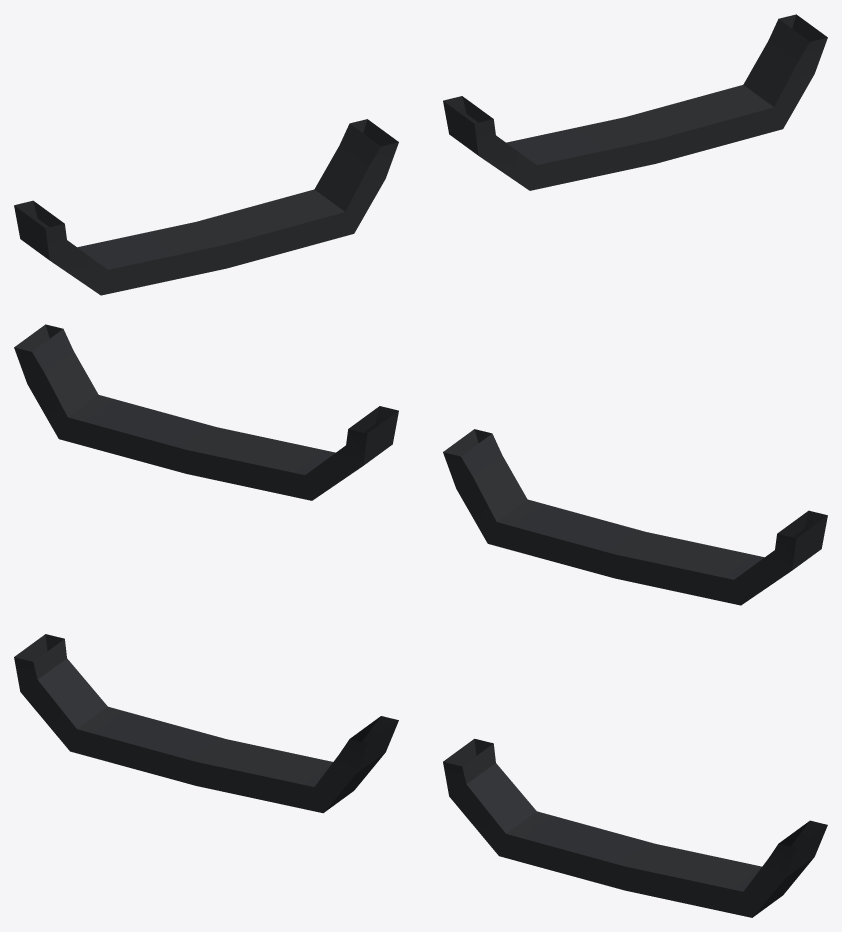
File: SM_Prop_Forensics_Case_01_Insert_04.fbx
3 renders of one model, top to bottom at view 1: azimuth 30°, elevation 25°; view 2: azimuth 150°, elevation 25°; view 3: azimuth 330°, elevation 25°, orthographic.
Visible parts, largest first — view 1: SM_Prop_Forensics_Case_01_Insert_04; view 2: SM_Prop_Forensics_Case_01_Insert_04; view 3: SM_Prop_Forensics_Case_01_Insert_04.
Boxes of the visible parts, x1=… form: SM_Prop_Forensics_Case_01_Insert_04: x1=14, y1=14, x2=827, y2=295; SM_Prop_Forensics_Case_01_Insert_04: x1=14, y1=324, x2=827, y2=605; SM_Prop_Forensics_Case_01_Insert_04: x1=14, y1=634, x2=827, y2=917.
Bounding box in the file's own units: 57.8 × 5.98 × 4.04.
